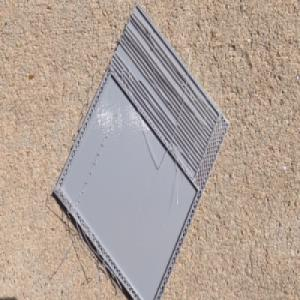PlasticPart: (52, 2, 230, 300)
